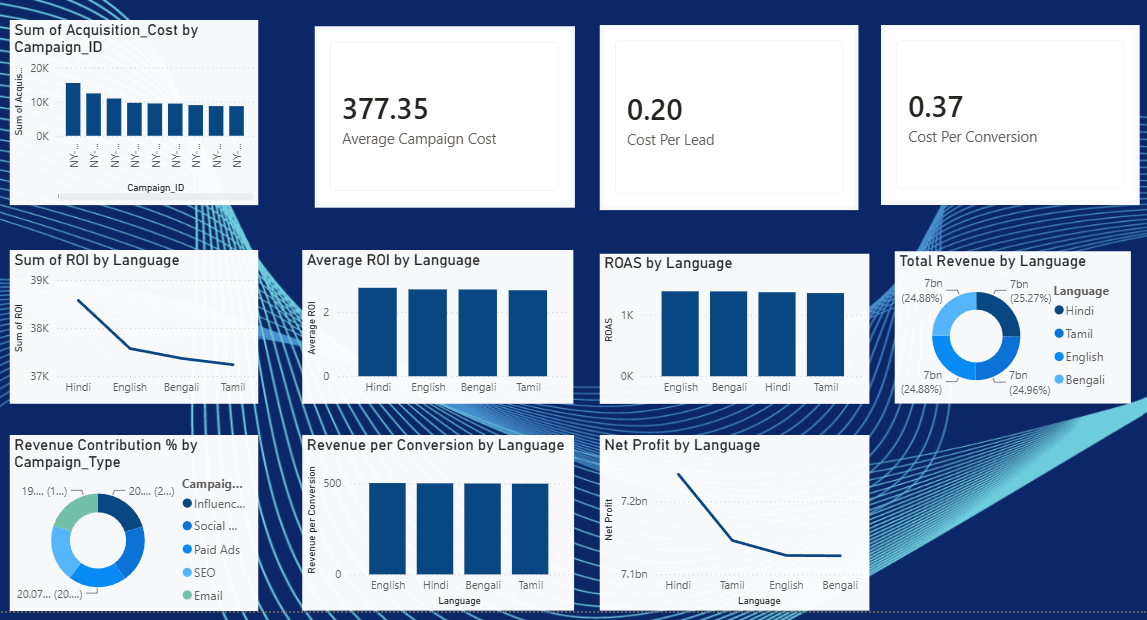

Layout of this report page (visuals, bound fields, positions):
{"tool":"powerbi","page":{"name":"financial dashboard","canvas":[1280,720],"ordinal":3},"visuals":[{"type":"clusteredColumnChart","fields":{"Y":["Sum(nykaa_campaign_data.Acquisition_Cost)"],"Category":["nykaa_campaign_data.Campaign_ID"]},"box":[20.6,71.4,273.1,203.1],"z":0},{"type":"cardVisual","fields":{"Data":["nykaa_campaign_data.Average Campaign Cost"]},"box":[355.4,78.2,285.4,199],"z":1000},{"type":"cardVisual","fields":{"Data":["nykaa_campaign_data.Cost Per Lead"]},"box":[668.3,76.8,284,203.1],"z":2000},{"type":"cardVisual","fields":{"Data":["nykaa_campaign_data.Cost Per Conversion"]},"box":[977,76.8,284,197.6],"z":3000},{"type":"lineChart","fields":{"Category":["nykaa_campaign_data.Language"],"Y":["Sum(nykaa_campaign_data.ROI)"]},"box":[20.6,323.8,273.1,168.8],"z":4000},{"type":"clusteredColumnChart","fields":{"Y":["nykaa_campaign_data.Average ROI"],"Category":["nykaa_campaign_data.Language"]},"box":[341.7,323.8,297.8,168.8],"z":5000},{"type":"clusteredColumnChart","fields":{"Y":["nykaa_campaign_data.ROAS"],"Category":["nykaa_campaign_data.Language"]},"box":[668.3,328,296.4,164.7],"z":6000},{"type":"donutChart","fields":{"Y":["nykaa_campaign_data.Total Revenue"],"Category":["nykaa_campaign_data.Language"]},"box":[992.1,325.2,259.3,167.4],"z":7000},{"type":"donutChart","fields":{"Y":["nykaa_campaign_data.Revenue Contribution %"],"Category":["nykaa_campaign_data.Campaign_Type"]},"box":[20.6,526.9,273.1,193.5],"z":8000},{"type":"clusteredColumnChart","fields":{"Y":["nykaa_campaign_data.Revenue per Conversion"],"Category":["nykaa_campaign_data.Language"]},"box":[342,527,298,193],"z":9000},{"type":"lineChart","fields":{"Category":["nykaa_campaign_data.Language"],"Y":["nykaa_campaign_data.Net Profit"]},"box":[668,527,296,193],"z":10000}]}

Visuals, with their boxes in screenshot pixels (x1, y1, x2, y2):
clusteredColumnChart - Sum(nykaa_campaign_data.Acquisition_Cost) x nykaa_campaign_data.Campaign_ID: (4,23,254,209)
cardVisual - nykaa_campaign_data.Average Campaign Cost: (310,30,571,212)
cardVisual - nykaa_campaign_data.Cost Per Lead: (596,28,856,214)
cardVisual - nykaa_campaign_data.Cost Per Conversion: (879,28,1138,209)
lineChart - nykaa_campaign_data.Language x Sum(nykaa_campaign_data.ROI): (4,254,254,409)
clusteredColumnChart - nykaa_campaign_data.Average ROI x nykaa_campaign_data.Language: (298,254,570,409)
clusteredColumnChart - nykaa_campaign_data.ROAS x nykaa_campaign_data.Language: (596,258,867,409)
donutChart - nykaa_campaign_data.Total Revenue x nykaa_campaign_data.Language: (893,256,1130,409)
donutChart - nykaa_campaign_data.Revenue Contribution % x nykaa_campaign_data.Campaign_Type: (4,440,254,617)
clusteredColumnChart - nykaa_campaign_data.Revenue per Conversion x nykaa_campaign_data.Language: (298,440,570,617)
lineChart - nykaa_campaign_data.Language x nykaa_campaign_data.Net Profit: (596,440,867,617)
